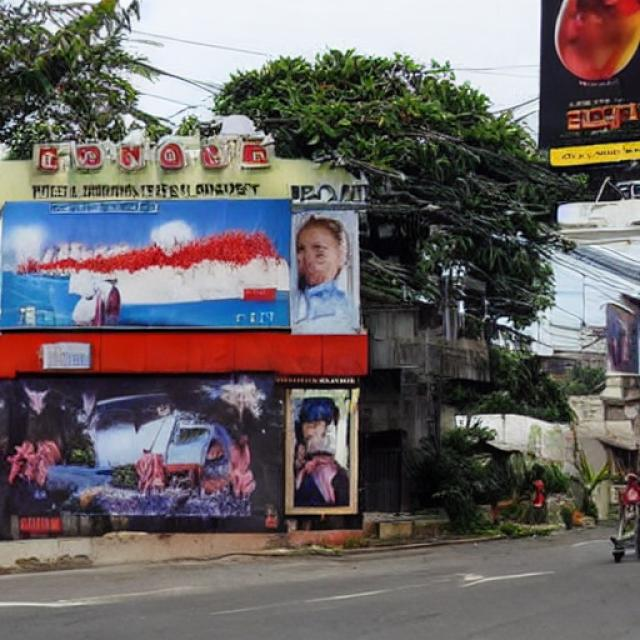Billboard: (1, 205, 363, 372), (538, 0, 640, 198), (283, 380, 361, 519)
